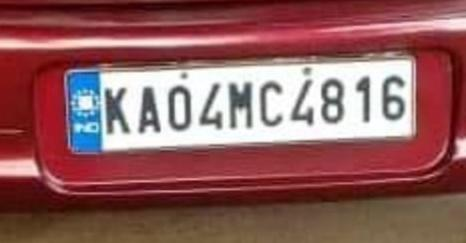0: (165, 85, 196, 134)
1: (351, 71, 378, 127)
4: (196, 80, 225, 132), (289, 77, 317, 130)
6: (380, 69, 410, 127)
8: (319, 77, 348, 128)
A: (134, 83, 162, 137)
C: (256, 80, 284, 130)
K: (102, 85, 132, 139)
M: (226, 81, 254, 130)
